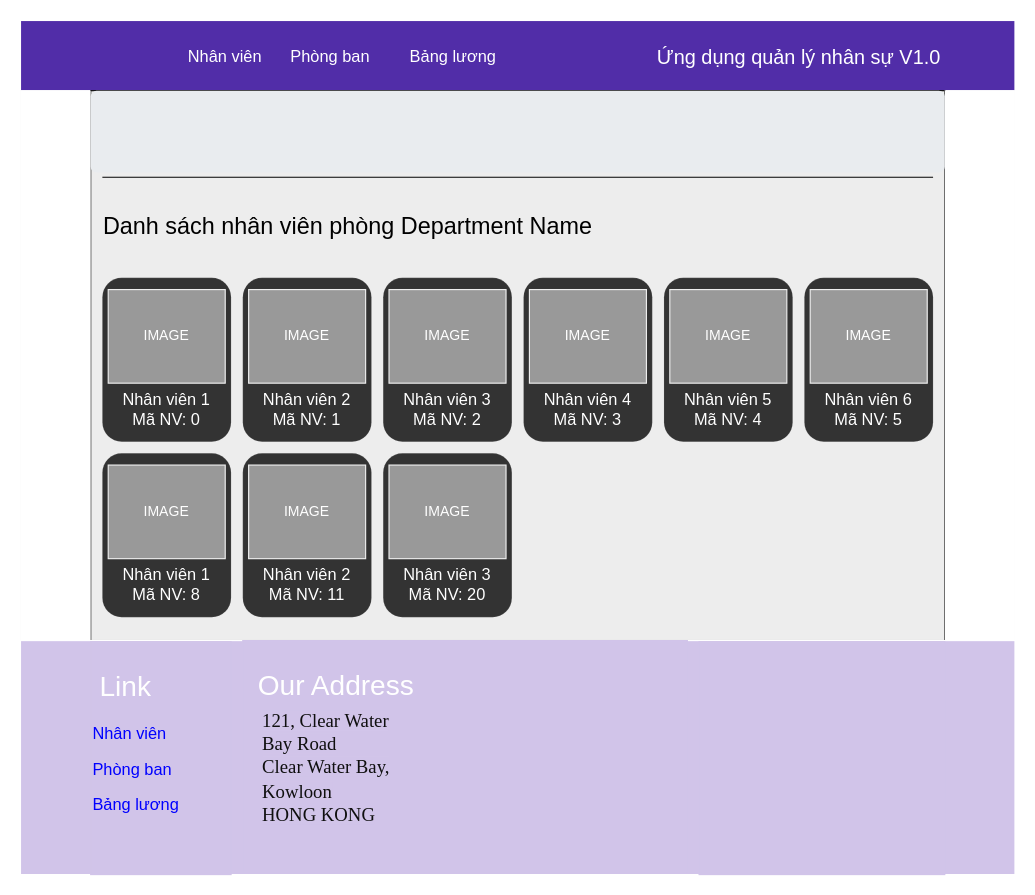
The diagram is 1035 pixels wide and 895 high, and some of its shapes have lost their labels. The centre of each missing label's shape, as x and y in pixels:
"LOGO" belongs at (x=517, y=55).
"Phòng ban / Department Name" belongs at (x=517, y=131).
"Social - Icon" belongs at (x=821, y=758).
